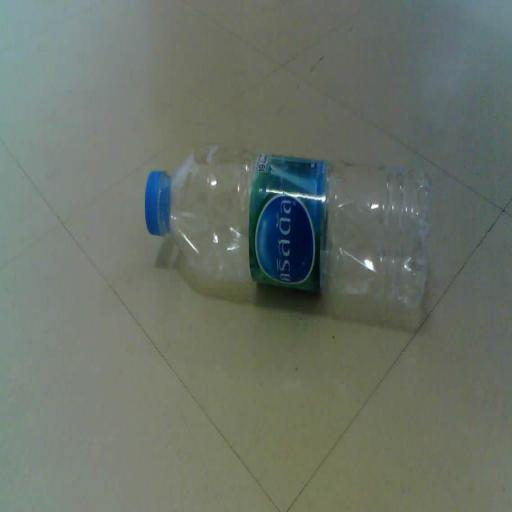bottle: (123, 128, 450, 356)
